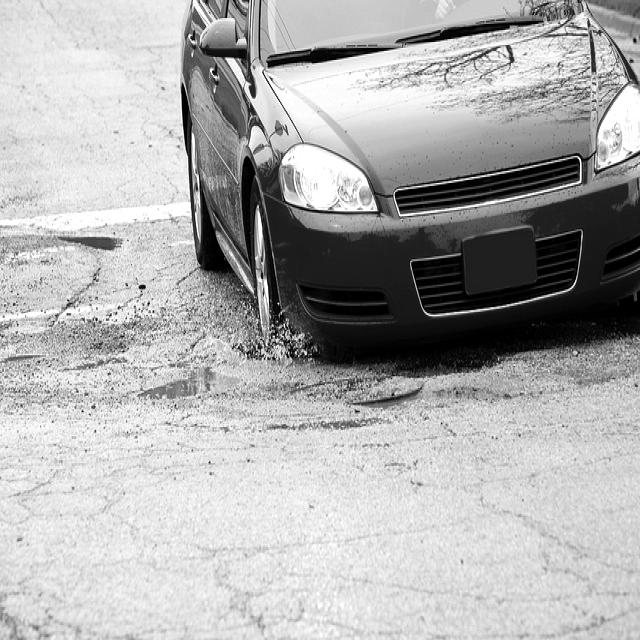pathole: (262, 378, 485, 430), (239, 320, 316, 366), (139, 367, 239, 398), (59, 236, 122, 250), (260, 384, 320, 398), (0, 354, 45, 363)
